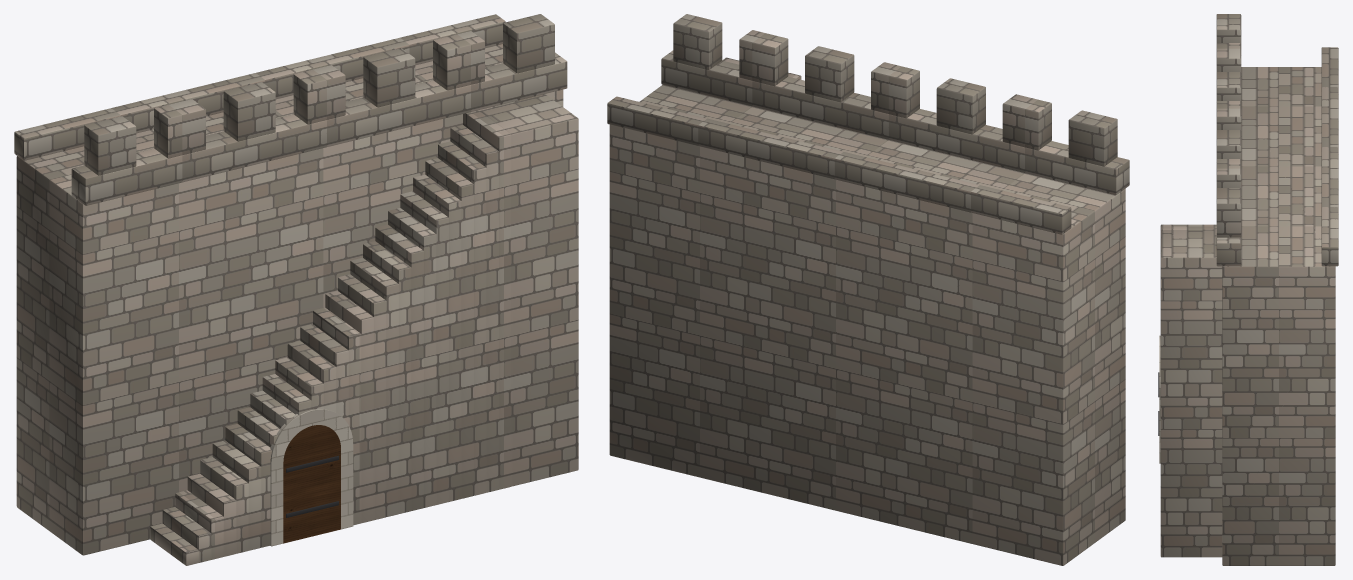
File: wall-walk-stairs.glb
3 views of the same model, side by side, from view 1: azimuth 30°, elevation 25°; view 2: azimuth 150°, elevation 25°; view 3: azimuth 270°, elevation 25° (orthographic). The views are drawn at different scales.
Visible parts, largest first — view 1: Wall_Walk_Stairs; view 2: Wall_Walk_Stairs; view 3: Wall_Walk_Stairs.
Boxes of the visible parts, x1=… form: Wall_Walk_Stairs: x1=14, y1=14, x2=578, y2=565; Wall_Walk_Stairs: x1=607, y1=14, x2=1129, y2=565; Wall_Walk_Stairs: x1=1158, y1=14, x2=1338, y2=565.
Bounding box in the file's own units: 10.02 × 8.35 × 3.81.
5 materials, 3 textured.
